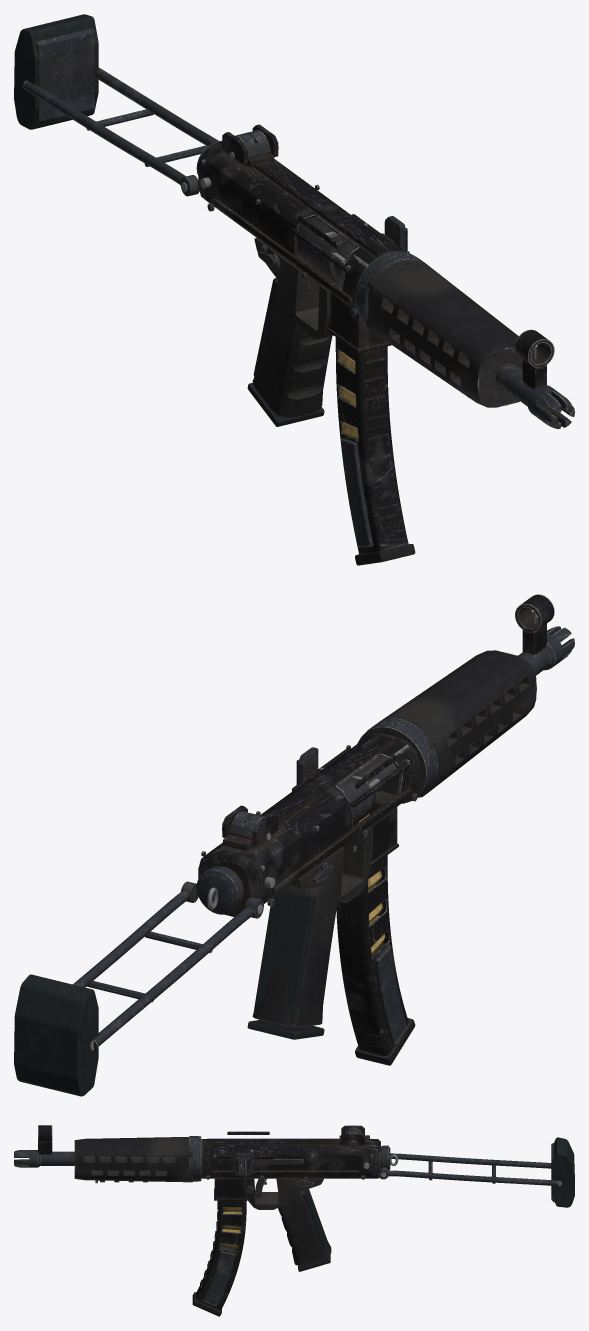
The model's file is smg.glb.
The picture shows the model from 3 angles, top to bottom: view 1: azimuth 30°, elevation 25°; view 2: azimuth 150°, elevation 25°; view 3: azimuth 270°, elevation 25°; orthographic projection. The views are drawn at different scales.
Parts seen in each view (by area): view 1: body, stock_fold, mag, bolt; view 2: body, stock_fold, mag, bolt; view 3: body, stock_fold, mag, charging_handle, bolt.
Part boxes in pixels (bbox=[...]): body: bbox=[180, 124, 574, 429]; stock_fold: bbox=[14, 14, 218, 184]; mag: bbox=[335, 285, 415, 565]; bolt: bbox=[297, 216, 367, 284]; body: bbox=[181, 594, 574, 1039]; stock_fold: bbox=[14, 890, 254, 1096]; mag: bbox=[336, 801, 415, 1065]; bolt: bbox=[319, 767, 379, 825]; body: bbox=[14, 1125, 398, 1271]; stock_fold: bbox=[388, 1137, 574, 1207]; mag: bbox=[192, 1200, 246, 1316]; charging_handle: bbox=[235, 1153, 253, 1176]; bolt: bbox=[250, 1150, 303, 1163].
Bounding box in the file's own units: 0.0653 × 0.2438 × 0.665.
6 materials, 6 textured.
